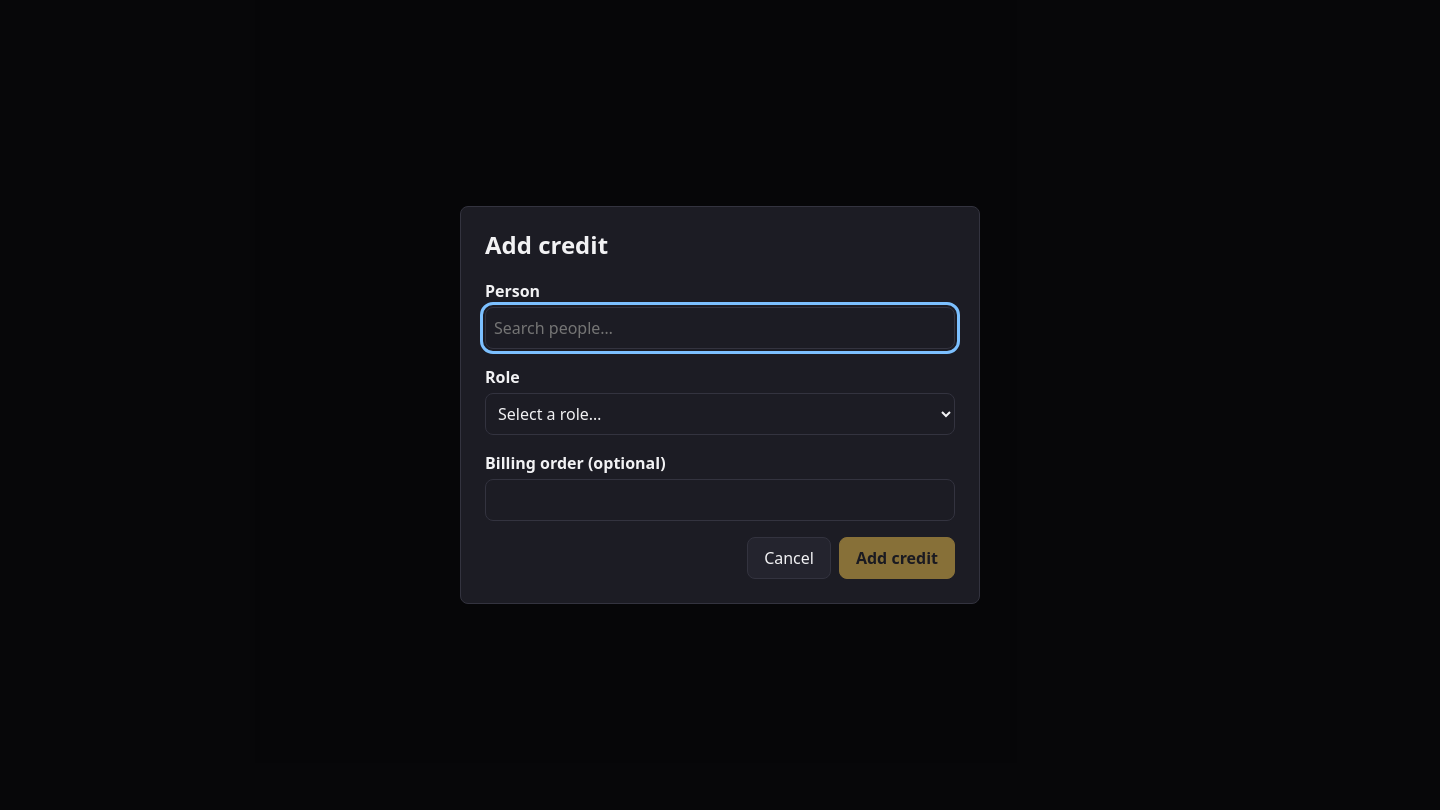
Test: CreditDialog › shows an inline message when the person search request fails (F17)
The width and height of the screenshot is (1440, 810).
In the dropdown labelled "Person": (720, 328) [485, 307, 955, 349], type "Jane"
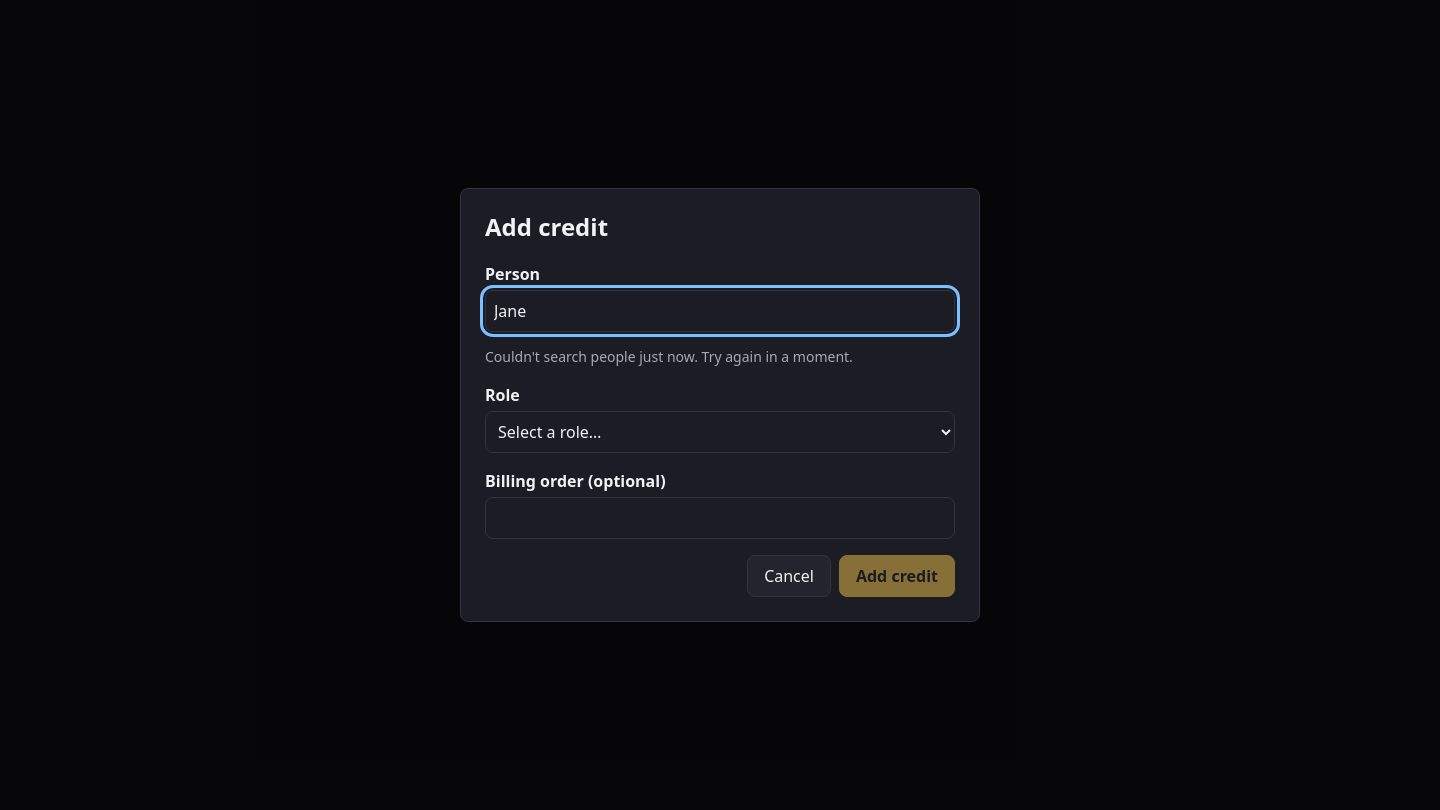
Expected: the message shows "Couldn't search people", [485, 347, 853, 366]
